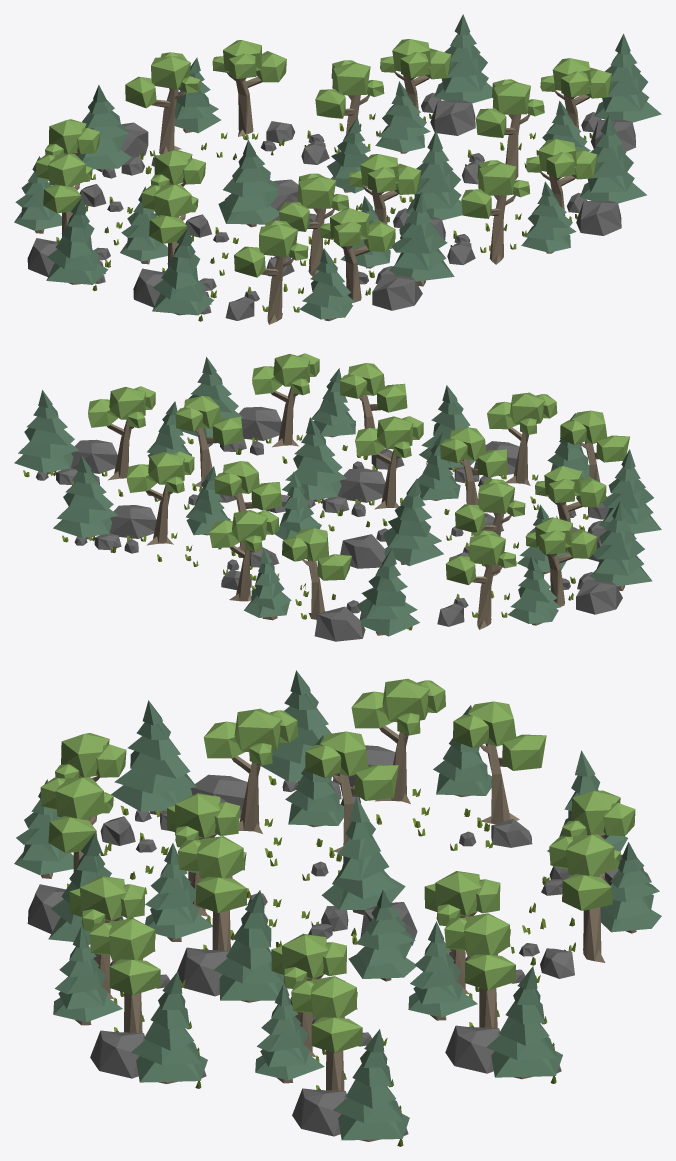
The model's file is somanyTrees.dae.
3 renders of one model, top to bottom at view 1: azimuth 30°, elevation 25°; view 2: azimuth 150°, elevation 25°; view 3: azimuth 270°, elevation 25°, orthographic. The views are drawn at different scales.
Parts seen in each view (by area): view 1: SketchUp (×94); view 2: SketchUp (×85); view 3: SketchUp (×87).
Part boxes in pixels (box(x1,y1,x2,y2)): SketchUp (×94): box(14, 39, 661, 320); SketchUp (×85): box(14, 354, 653, 641); SketchUp (×87): box(14, 678, 661, 1140).
Bounding box in the file's own units: 1531 × 1061 × 241.
